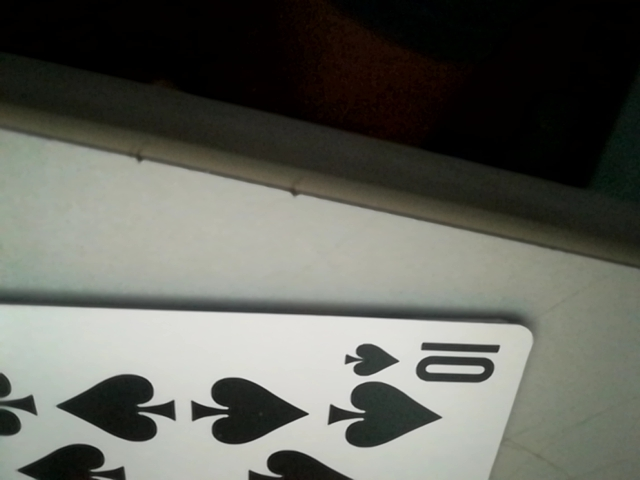ht 10: (342, 331, 508, 387)
